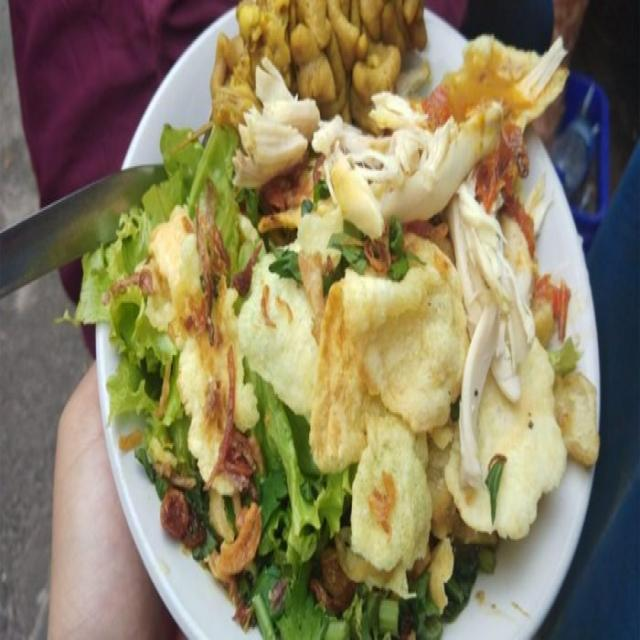bubur ayam: (146, 80, 564, 638)
mangkuk: (95, 1, 602, 635)
